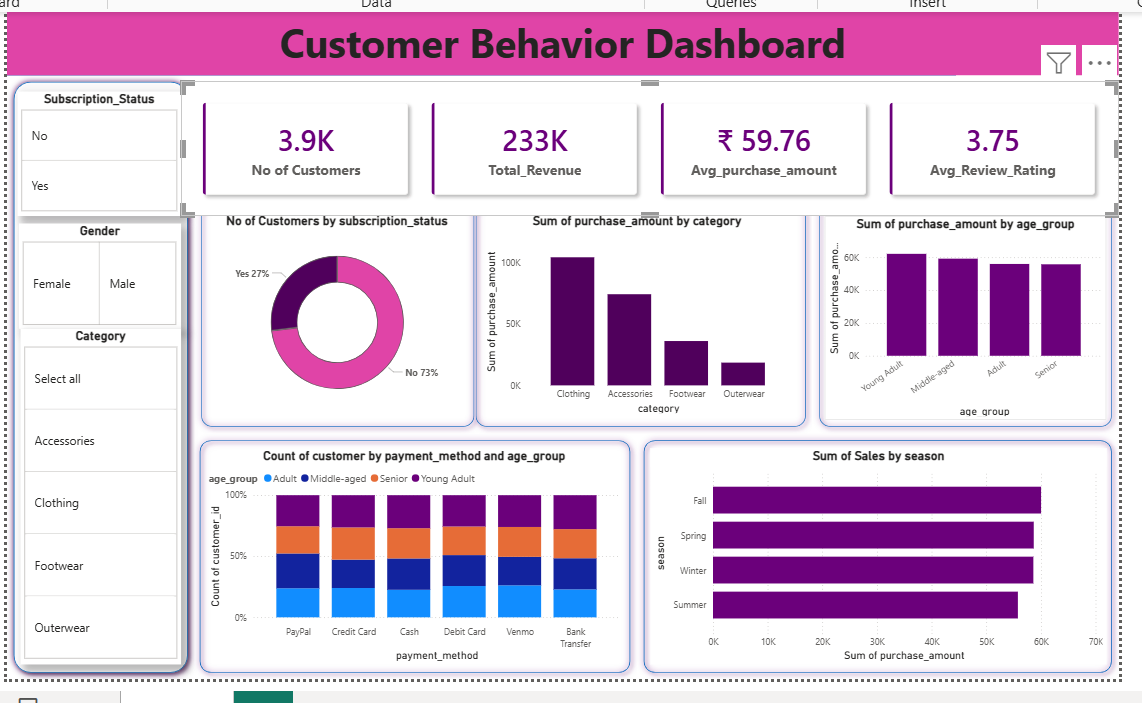

The dashboard page shown, as its layout file describes it:
{"tool":"powerbi","page":{"name":"Page 1","canvas":[1500,900],"ordinal":0},"visuals":[{"type":"cardVisual","fields":{"Data":["mydatabase customer.No of Customers","mydatabase customer.Total_Revenue","mydatabase customer.Avg_purchase_amount","mydatabase customer.Avg_Review_Rating"]},"box":[234.8,93.1,1265,182.2],"z":0},{"type":"shape","box":[0,0,1280.8,85.8],"z":1000},{"type":"textbox","box":[0,0,1499.8,85],"z":2000},{"type":"donutChart","fields":{"Category":["mydatabase customer.subscription_status"],"Y":["mydatabase customer.No of Customers"]},"box":[267.2,271.2,356.2,275.3],"z":3000},{"type":"columnChart","fields":{"Category":["mydatabase customer.category"],"Y":["Sum(mydatabase customer.purchase_amount)"]},"box":[639.6,271.2,421,275.3],"z":4000},{"type":"shape","box":[0,85,253,815.7],"z":5000},{"type":"advancedSlicerVisual","fields":{"Values":["mydatabase customer.subscription_status"]},"box":[14.2,107.3,220.6,168],"z":6000},{"type":"advancedSlicerVisual","fields":{"Values":["mydatabase customer.gender"]},"box":[16.2,285.4,218.6,141.7],"z":7000},{"type":"advancedSlicerVisual","fields":{"Values":["mydatabase customer.category"]},"box":[18.2,427.1,216.6,453.4],"z":8000},{"type":"shape","box":[253,251,386.6,317.8],"z":9000},{"type":"shape","box":[1086.9,251,412.9,317.8],"z":10000},{"type":"shape","box":[623.4,251,463.5,317.8],"z":11000},{"type":"clusteredColumnChart","fields":{"Category":["mydatabase customer.age_group"],"Y":["Sum(mydatabase customer.purchase_amount)"]},"box":[1103.1,275.3,380.5,275.3],"z":12000},{"type":"hundredPercentStackedColumnChart","title":"Count of customer by payment_method and age_group","fields":{"Category":["mydatabase customer.payment_method"],"Y":["CountNonNull(mydatabase customer.customer_id)"],"Series":["mydatabase customer.age_group"]},"box":[267.2,589,564.7,291.5],"z":13000},{"type":"shape","box":[251,568.8,599.1,331.9],"z":14000},{"type":"shape","box":[850.1,568.8,649.7,331.9],"z":15000},{"type":"clusteredBarChart","title":"Sum of Sales by season","fields":{"Category":["mydatabase customer.season"],"Y":["Sum(mydatabase customer.purchase_amount)"]},"box":[868.3,589,615.3,291.5],"z":16000}]}

Visuals, with their boxes in screenshot pixels (x1, y1, x2, y2):
cardVisual - mydatabase customer.No of Customers x mydatabase customer.Total_Revenue: Rect(176, 79, 1126, 216)
shape: Rect(0, 9, 962, 73)
textbox: Rect(0, 9, 1126, 73)
donutChart - mydatabase customer.subscription_status x mydatabase customer.No of Customers: Rect(201, 213, 468, 419)
columnChart - mydatabase customer.category x Sum(mydatabase customer.purchase_amount): Rect(480, 213, 796, 419)
shape: Rect(0, 73, 190, 685)
advancedSlicerVisual - mydatabase customer.subscription_status: Rect(11, 89, 176, 216)
advancedSlicerVisual - mydatabase customer.gender: Rect(12, 223, 176, 330)
advancedSlicerVisual - mydatabase customer.category: Rect(14, 330, 176, 670)
shape: Rect(190, 197, 480, 436)
shape: Rect(816, 197, 1126, 436)
shape: Rect(468, 197, 816, 436)
clusteredColumnChart - mydatabase customer.age_group x Sum(mydatabase customer.purchase_amount): Rect(828, 216, 1114, 422)
"Count of customer by payment_method and age_group" hundredPercentStackedColumnChart: Rect(201, 451, 625, 670)
shape: Rect(188, 436, 638, 685)
shape: Rect(638, 436, 1126, 685)
"Sum of Sales by season" clusteredBarChart: Rect(652, 451, 1114, 670)
